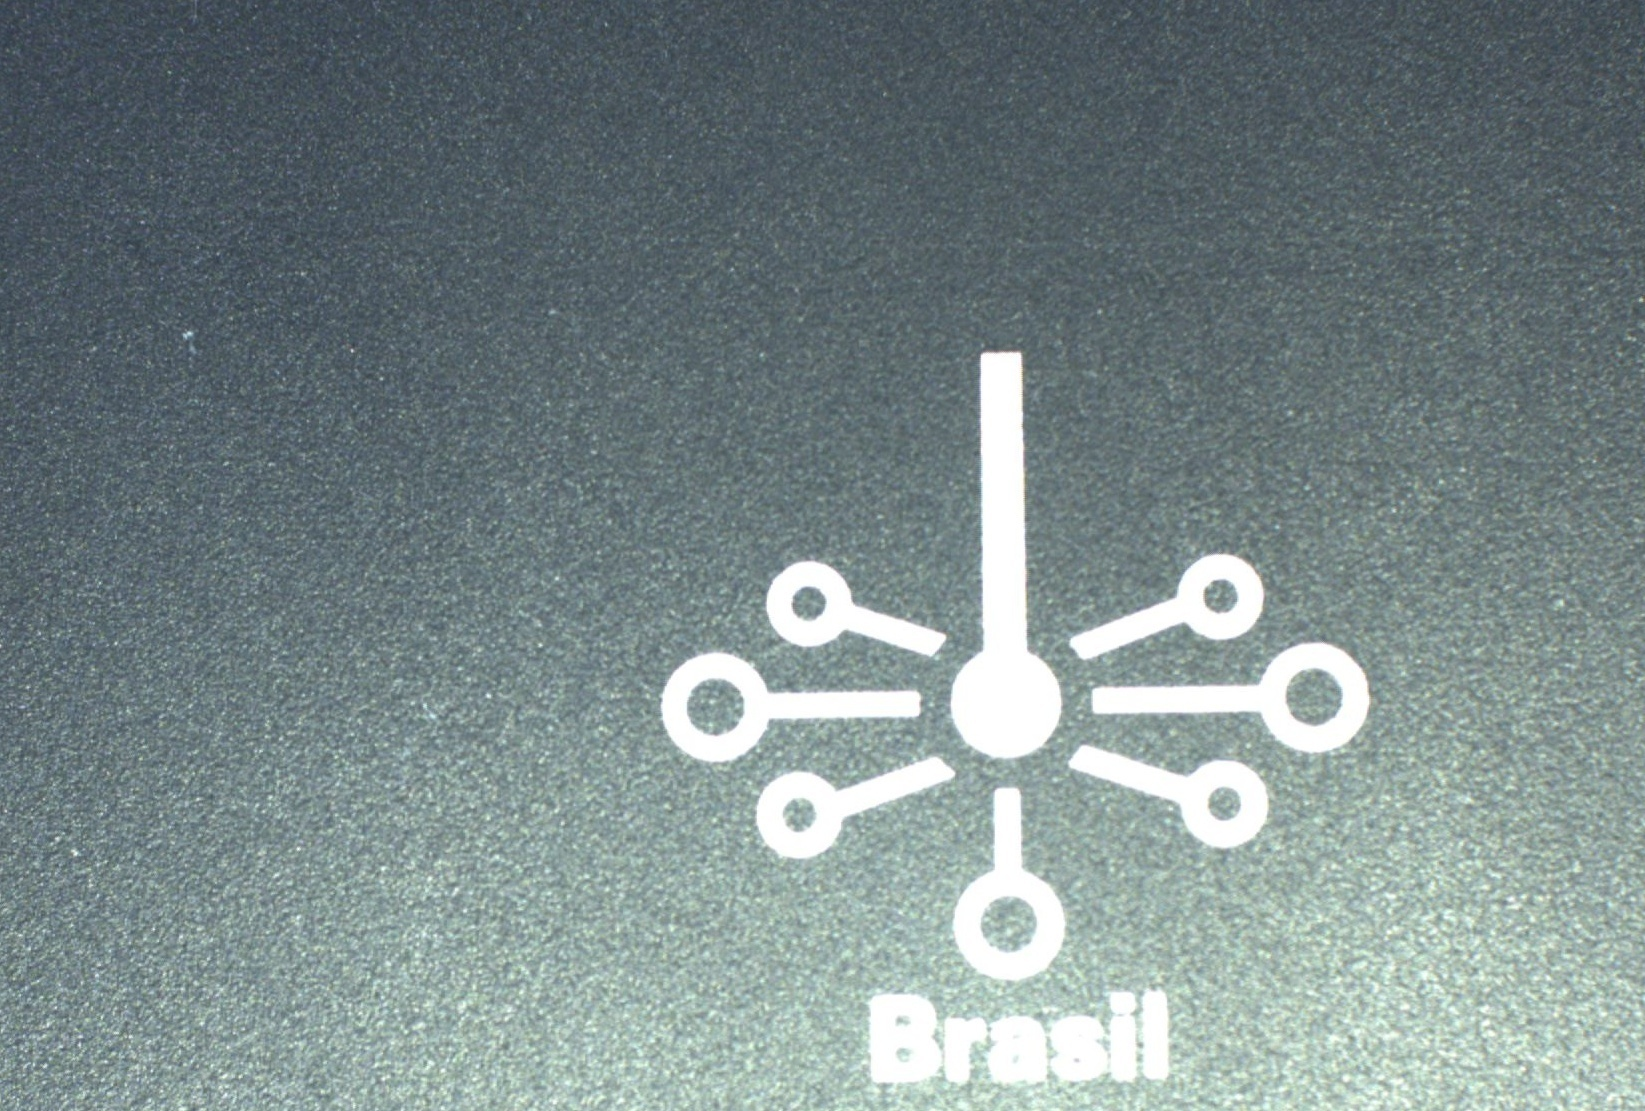BO_Brsail: (593, 339, 1388, 1087)
